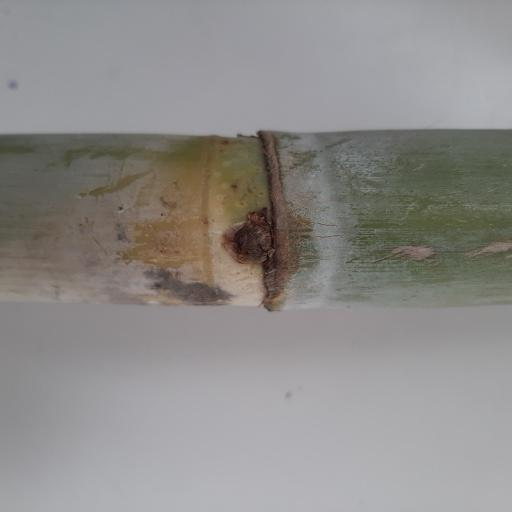Bud: (229, 223, 272, 261)
